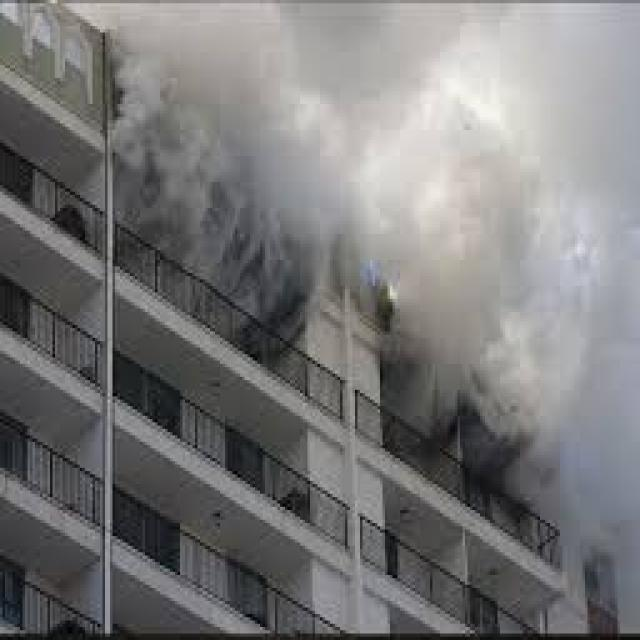Smoke: (110, 6, 640, 403)
